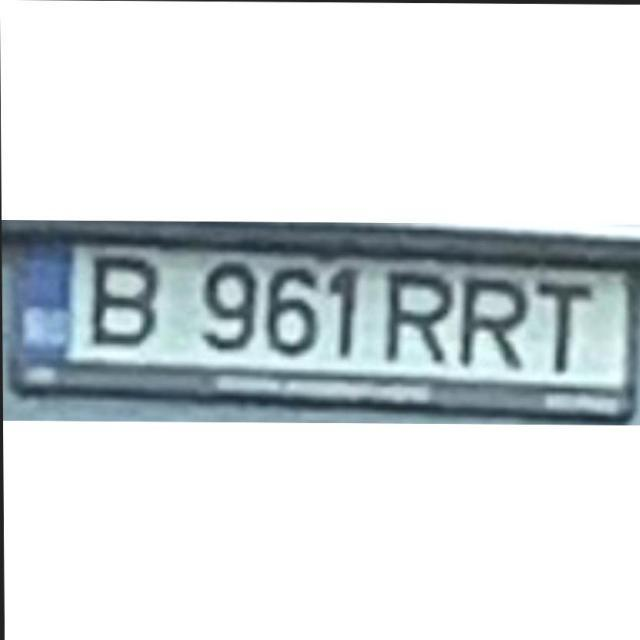license-plates: (4, 224, 640, 422)
